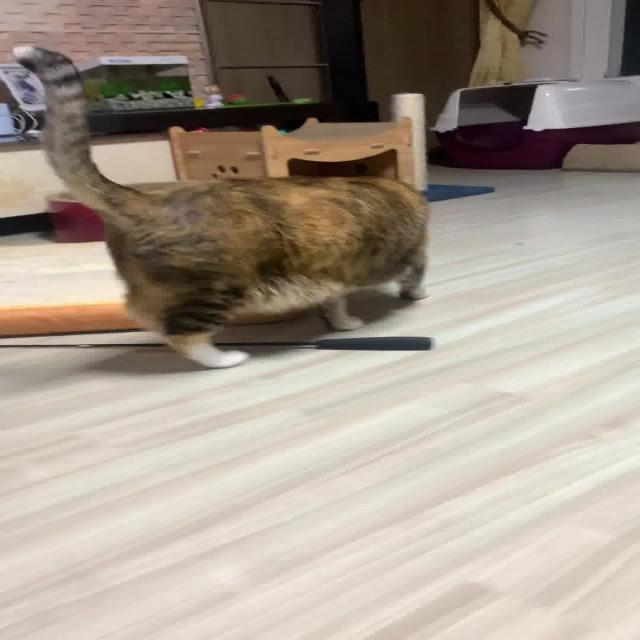cat: (18, 37, 441, 371)
